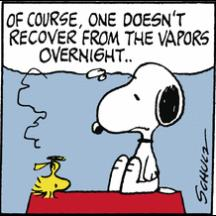snoopy: (89, 60, 187, 198)
